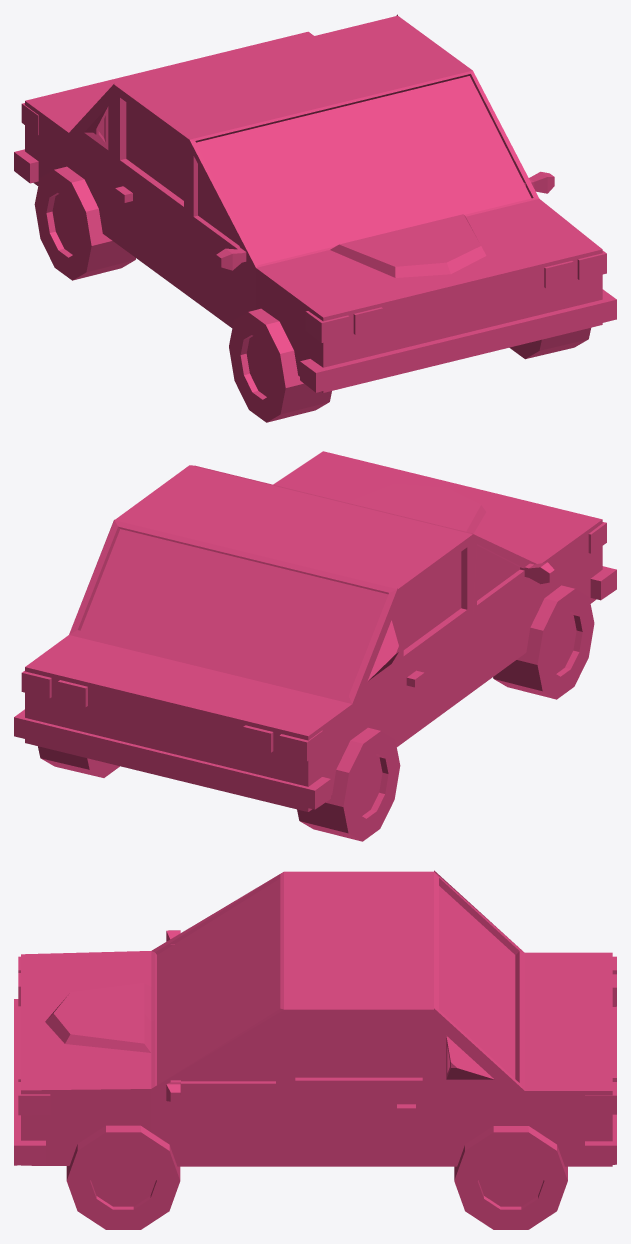
Rendered from Auto1.fbx.
3 renders of one model, top to bottom at view 1: azimuth 30°, elevation 25°; view 2: azimuth 150°, elevation 25°; view 3: azimuth 270°, elevation 25°, orthographic.
Parts seen in each view (by area): view 1: Cube; view 2: Cube; view 3: Cube.
Part boxes in pixels (box(x1,y1,x2,y2)): Cube: box(14, 14, 616, 422); Cube: box(14, 451, 616, 841); Cube: box(14, 870, 616, 1229).
Bounding box in the file's own units: 103 × 63.61 × 161.
